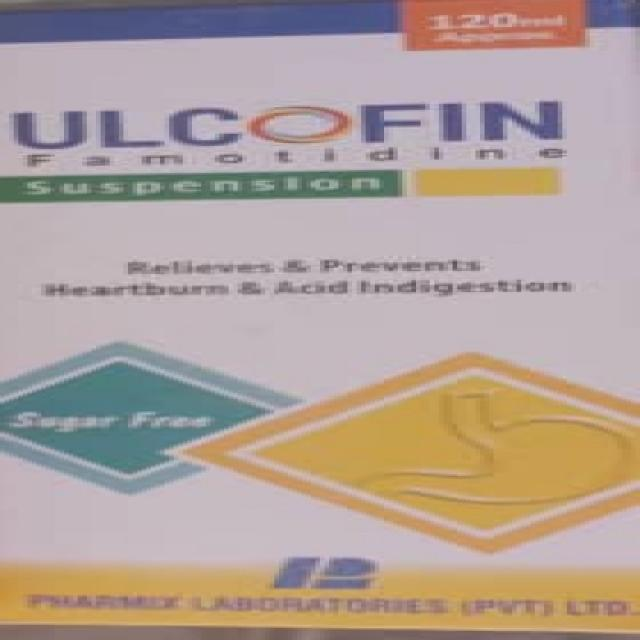drug-name: (7, 102, 570, 150)
